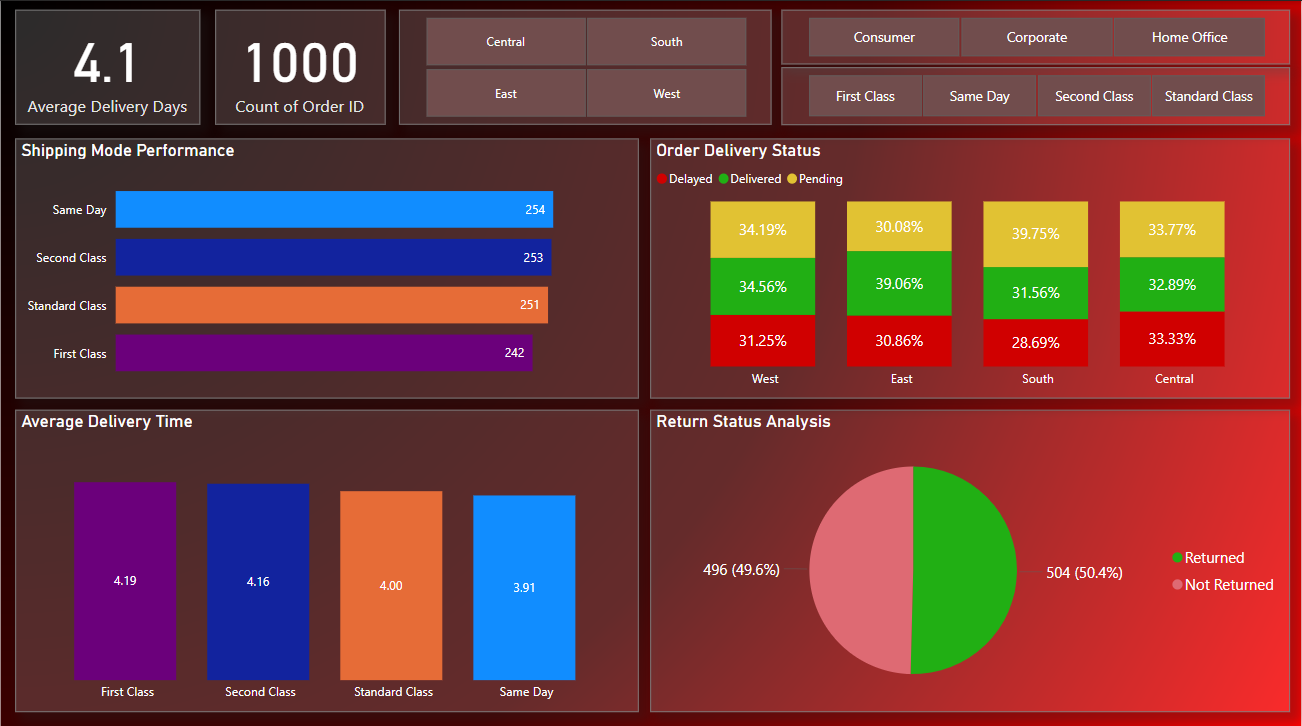

Layout of this report page (visuals, bound fields, positions):
{"tool":"powerbi","page":{"name":"Shipping & Fulfillment","canvas":[1280,720],"ordinal":3},"visuals":[{"type":"barChart","title":"Shipping Mode Performance","fields":{"Category":["Sample_SalesData.Shipping Mode"],"Y":["CountNonNull(Sample_SalesData.Order ID)"],"Series":["Sample_SalesData.Shipping Mode"]},"box":[16,135,612.3,255.2],"z":0},{"type":"columnChart","title":"Average Delivery Time","fields":{"Category":["Sample_SalesData.Shipping Mode"],"Y":["Avg(Sample_SalesData.DeliveryDays)"],"Series":["Sample_SalesData.Shipping Mode"]},"box":[16,401.2,612.3,296.9],"z":1000},{"type":"pieChart","title":"Return Status Analysis","fields":{"Category":["Sample_SalesData.Return Status"],"Y":["CountNonNull(Sample_SalesData.Order ID)"]},"box":[639.3,401.2,628.2,296.9],"z":2000},{"type":"hundredPercentStackedColumnChart","title":"Order Delivery Status","fields":{"Category":["Sample_SalesData.Region"],"Y":["CountNonNull(Sample_SalesData.Order ID)"],"Series":["Sample_SalesData.Delivery Status"]},"box":[639.3,135,628.2,255.2],"z":3000},{"type":"card","fields":{"Values":["Avg(Sample_SalesData.DeliveryDays)"]},"box":[16,8.6,181.6,112.9],"z":4000},{"type":"slicer","fields":{"Values":["Sample_SalesData.Region"]},"box":[392.6,8.6,365.6,112.9],"z":5000},{"type":"slicer","fields":{"Values":["Sample_SalesData.Segment"]},"box":[768.1,8.6,499.4,54],"z":6000},{"type":"slicer","fields":{"Values":["Sample_SalesData.Shipping Mode"]},"box":[768.1,65,499.4,56.4],"z":7000},{"type":"card","fields":{"Values":["CountNonNull(Sample_SalesData.Order ID)"]},"box":[212.3,8.6,166.9,112.9],"z":8000}]}

Visuals, with their boxes in screenshot pixels (x1, y1, x2, y2), scaled from the page's 1280x720 canvas onto the 1302x726 screenshot:
"Shipping Mode Performance" barChart: locate(16, 136, 639, 393)
"Average Delivery Time" columnChart: locate(16, 405, 639, 704)
"Return Status Analysis" pieChart: locate(650, 405, 1289, 704)
"Order Delivery Status" hundredPercentStackedColumnChart: locate(650, 136, 1289, 393)
card - Avg(Sample_SalesData.DeliveryDays): locate(16, 9, 201, 123)
slicer - Sample_SalesData.Region: locate(399, 9, 771, 123)
slicer - Sample_SalesData.Segment: locate(781, 9, 1289, 63)
slicer - Sample_SalesData.Shipping Mode: locate(781, 66, 1289, 122)
card - CountNonNull(Sample_SalesData.Order ID): locate(216, 9, 386, 123)
